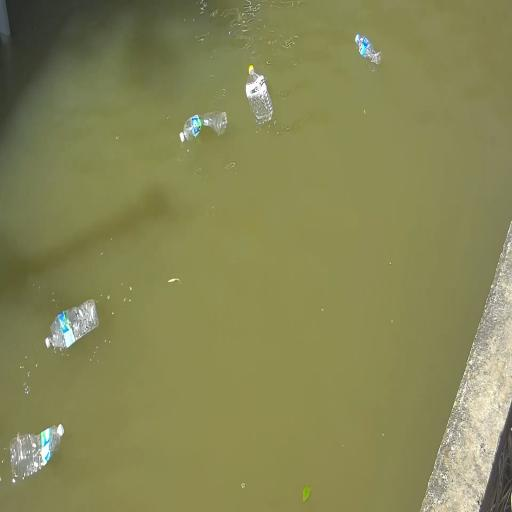plastic: (11, 424, 64, 479), (45, 299, 99, 348), (246, 65, 273, 124), (180, 111, 227, 142), (355, 34, 381, 64)
